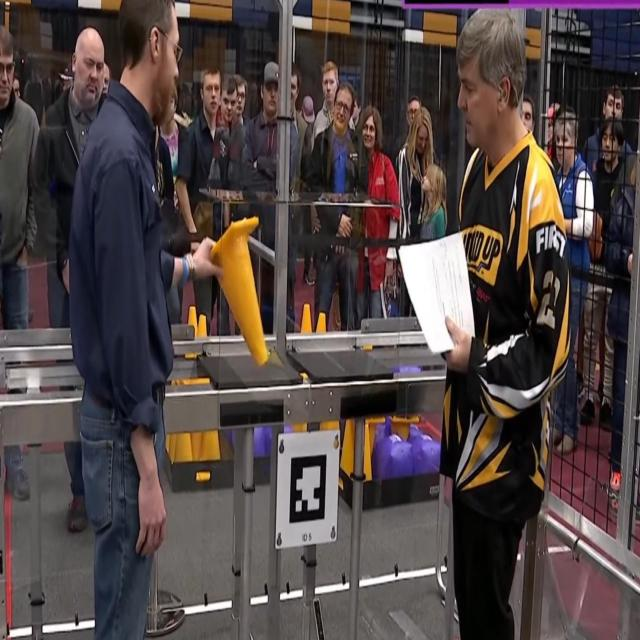frc_cone: (210, 215, 270, 371), (340, 418, 356, 476), (388, 410, 416, 442), (199, 431, 221, 464), (362, 422, 374, 481), (296, 300, 315, 335), (177, 427, 193, 461), (190, 428, 202, 461), (314, 311, 327, 335), (186, 302, 198, 326), (196, 315, 208, 338), (166, 431, 176, 458)
frc_cube: (377, 432, 412, 480), (411, 432, 440, 476), (253, 425, 268, 454)
